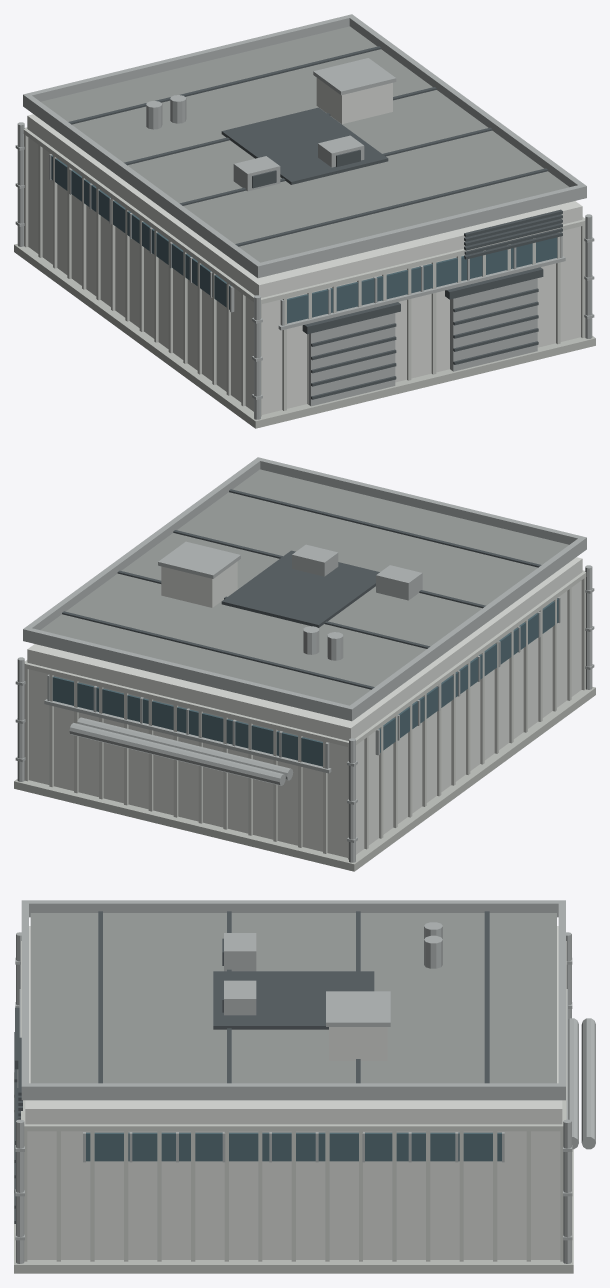
The model's file is pumphouse.glb.
The picture shows the model from 3 angles, top to bottom: view 1: azimuth 30°, elevation 25°; view 2: azimuth 150°, elevation 25°; view 3: azimuth 270°, elevation 25°; orthographic projection. The views are drawn at different scales.
Parts seen in each view (by area): view 1: pumphouse; view 2: pumphouse; view 3: pumphouse.
Part boxes in pixels (x1,y1,x2,y2): pumphouse: (14,14,595,428); pumphouse: (14,457,595,871); pumphouse: (14,900,595,1273).
Size of the model in its own units: 4.81 by 2.49 by 6.14.
